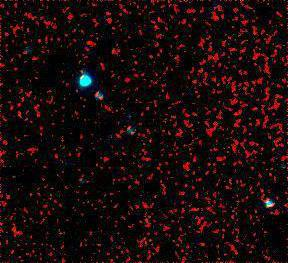star: (67, 63, 97, 93)
